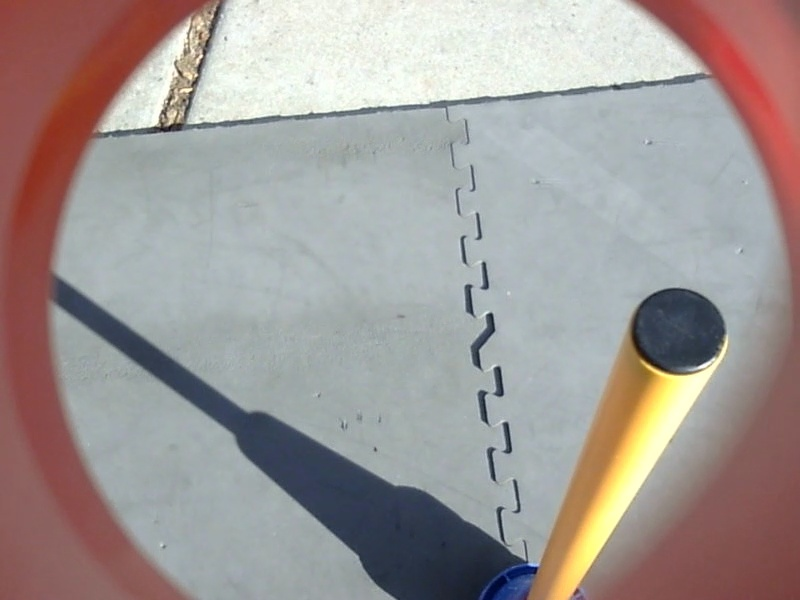tip: (621, 282, 736, 377)
